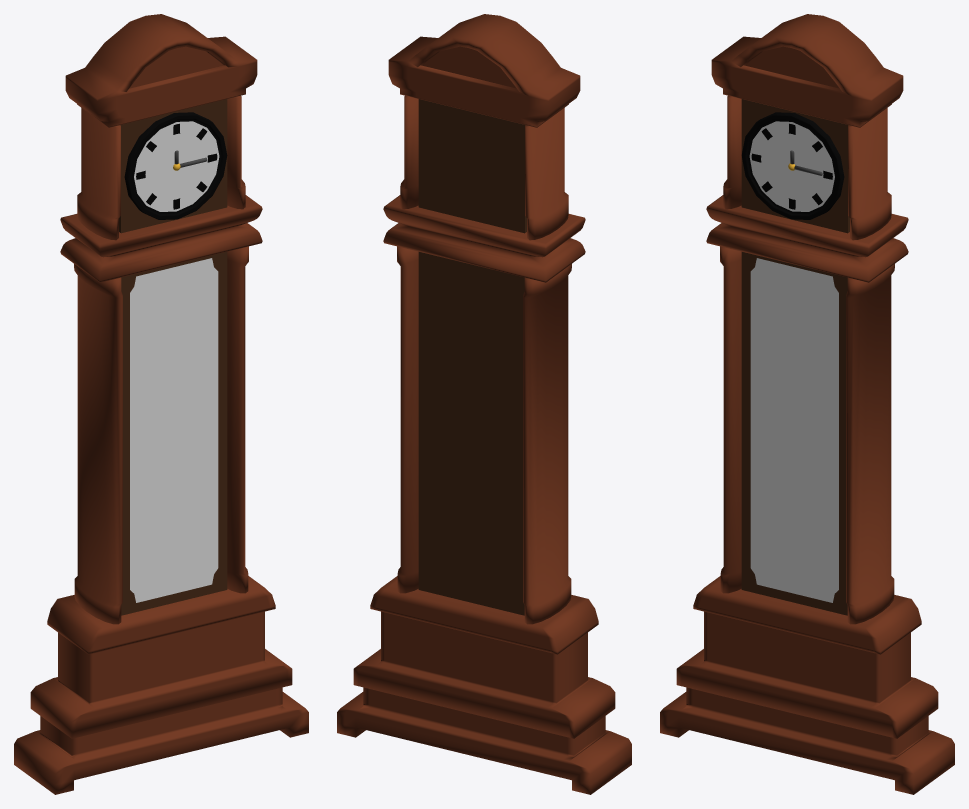
File: Relogio.fbx
The picture shows the model from 3 angles, left to right: view 1: azimuth 30°, elevation 25°; view 2: azimuth 150°, elevation 25°; view 3: azimuth 330°, elevation 25°; orthographic projection.
Visible parts, largest first — view 1: Cube.014, Cube.010, Cylinder.005, Cube.013, Cube.011, Cylinder.011, Cylinder.006, Cube.012; view 2: Cube.014, Cube.010, Cylinder.005, Cube.013, Cube.012, Cube.011, Cylinder.006; view 3: Cube.014, Cube.010, Cylinder.005, Cube.013, Cube.011, Cylinder.011, Cylinder.006, Cube.012.
Boxes of the visible parts, x1,y1,x2,y2 form: Cube.014: (14,576,308,794); Cube.010: (121,252,227,615); Cylinder.005: (74,246,248,624); Cube.013: (65,14,257,127); Cube.011: (60,195,262,282); Cylinder.011: (124,112,227,219); Cylinder.006: (77,95,245,240); Cube.012: (119,99,227,233); Cube.014: (337,576,631,794); Cube.010: (418,252,524,615); Cylinder.005: (397,246,571,624); Cube.013: (388,14,580,127); Cube.012: (418,99,526,233); Cube.011: (383,195,585,282); Cylinder.006: (400,95,568,240); Cube.014: (660,576,954,794); Cube.010: (741,252,847,615); Cylinder.005: (720,246,894,624); Cube.013: (711,14,903,127); Cube.011: (706,195,908,282); Cylinder.011: (741,112,844,219); Cylinder.006: (723,95,891,240); Cube.012: (741,99,849,233).
Bounding box in the file's own units: 597 × 1622 × 169.
